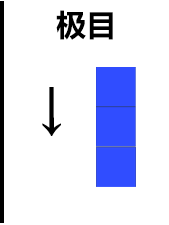arrow: (35, 77, 70, 144)
